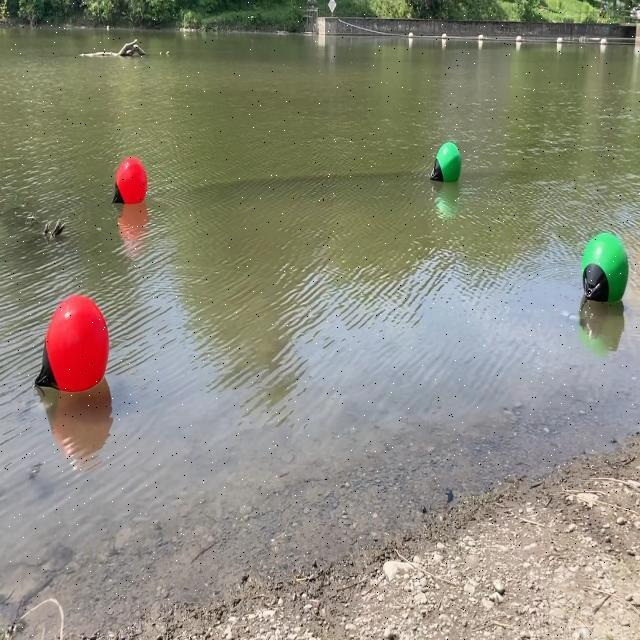buoy: (34, 292, 108, 394), (580, 230, 630, 313), (108, 150, 150, 210), (432, 135, 464, 194)
